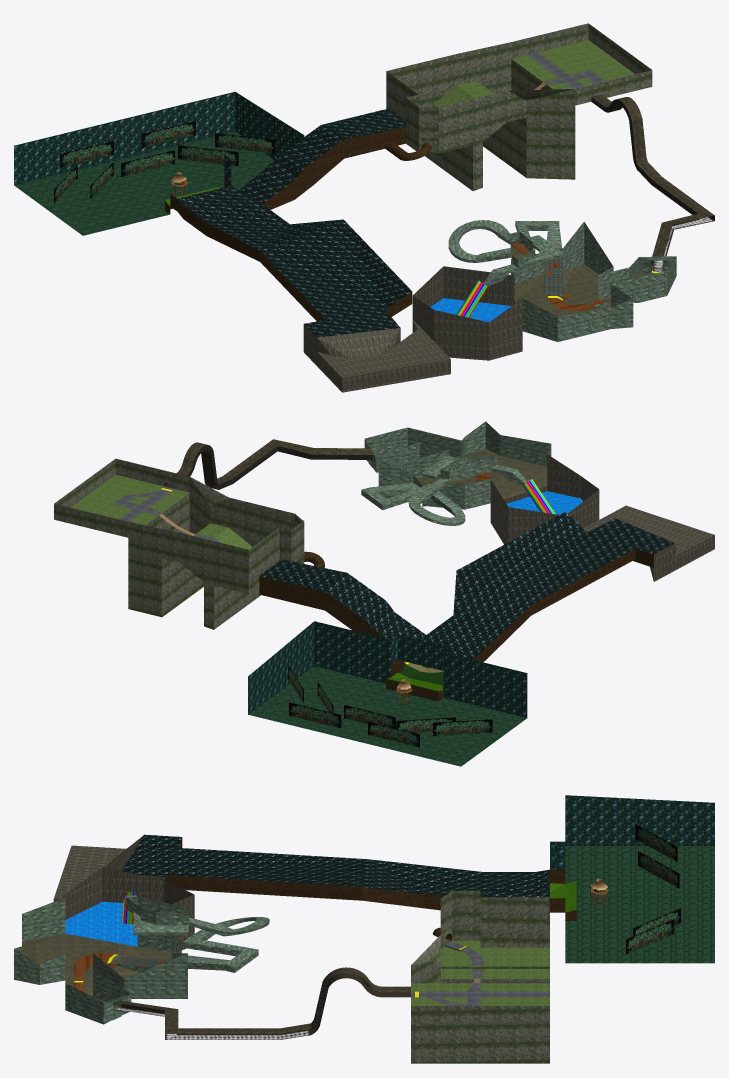
3 views of the same model, one above another, from view 1: azimuth 30°, elevation 25°; view 2: azimuth 150°, elevation 25°; view 3: azimuth 270°, elevation 25° (orthographic). The views are drawn at different scales.
Visible parts, largest first — view 1: riverMAIN_Main_wall2, riverMAIN_Main_jungle, riverMAIN_Main_iwa, riverMAIN_Main_wall6, riverMAIN_Main_jungle3, riverMAIN_Main_jungle2, riverMAIN_Main_wall, riverMAIN_Main_jungle4, riverMAIN_Main_kusa3, riverMAIN_Main_da, riverMAIN_Main_wall5, riverMAIN_Main_umi (+4 smaller); view 2: riverMAIN_Main_wall2, riverMAIN_Main_jungle, riverMAIN_Main_jungle2, riverMAIN_Main_wall6, riverMAIN_Main_jungle3, riverMAIN_Main_iwa, riverMAIN_Main_wall, riverMAIN_Main_jungle4, riverMAIN_Main_kusa3, riverMAIN_Main_da, riverMAIN_Main_wall5, riverMAIN_Main_wall4 (+2 smaller); view 3: riverMAIN_Main_wall2, riverMAIN_Main_jungle3, riverMAIN_Main_wall6, riverMAIN_Main_jungle, riverMAIN_Main_jungle2, riverMAIN_Main_iwa, riverMAIN_Main_kusa3, riverMAIN_Main_wall, riverMAIN_Main_da, riverMAIN_Main_jungle4, riverMAIN_Main_umi, riverMAIN_Main_wall5 (+6 smaller).
Part boxes in pixels (x1,y1,x2,y2): riverMAIN_Main_wall2: (386,23,652,190); riverMAIN_Main_jungle: (177,108,411,337); riverMAIN_Main_iwa: (303,266,522,392); riverMAIN_Main_wall6: (448,220,676,341); riverMAIN_Main_jungle3: (14,131,274,235); riverMAIN_Main_jungle2: (14,91,304,185); riverMAIN_Main_wall: (165,126,432,321); riverMAIN_Main_jungle4: (54,121,275,202); riverMAIN_Main_kusa3: (433,40,634,107); riverMAIN_Main_da: (511,246,651,316); riverMAIN_Main_wall5: (591,94,714,256); riverMAIN_Main_umi: (430,298,511,322); riverMAIN_Main_wall2: (54,458,304,629); riverMAIN_Main_jungle: (259,512,674,659); riverMAIN_Main_jungle2: (248,621,527,717); riverMAIN_Main_wall6: (361,421,551,525); riverMAIN_Main_jungle3: (248,666,526,766); riverMAIN_Main_iwa: (490,454,714,581); riverMAIN_Main_wall: (259,548,653,701); riverMAIN_Main_jungle4: (288,666,492,747); riverMAIN_Main_kusa3: (71,474,252,549); riverMAIN_Main_da: (376,449,546,498); riverMAIN_Main_wall5: (176,439,373,484); riverMAIN_Main_wall4: (164,445,373,489); riverMAIN_Main_wall2: (411,890,549,1063); riverMAIN_Main_jungle3: (565,846,714,963); riverMAIN_Main_wall6: (14,895,269,1024); riverMAIN_Main_jungle: (122,834,549,897); riverMAIN_Main_jungle2: (550,795,714,869); riverMAIN_Main_iwa: (53,835,194,950); riverMAIN_Main_kusa3: (411,941,549,1005); riverMAIN_Main_wall: (164,838,576,940); riverMAIN_Main_da: (22,933,171,1009); riverMAIN_Main_jungle4: (626,824,680,954); riverMAIN_Main_umi: (65,902,137,946); riverMAIN_Main_wall5: (114,967,410,1033).
Bounding box in the file's own units: 195493 × 39101 × 209854.
33 materials, 32 textured.
